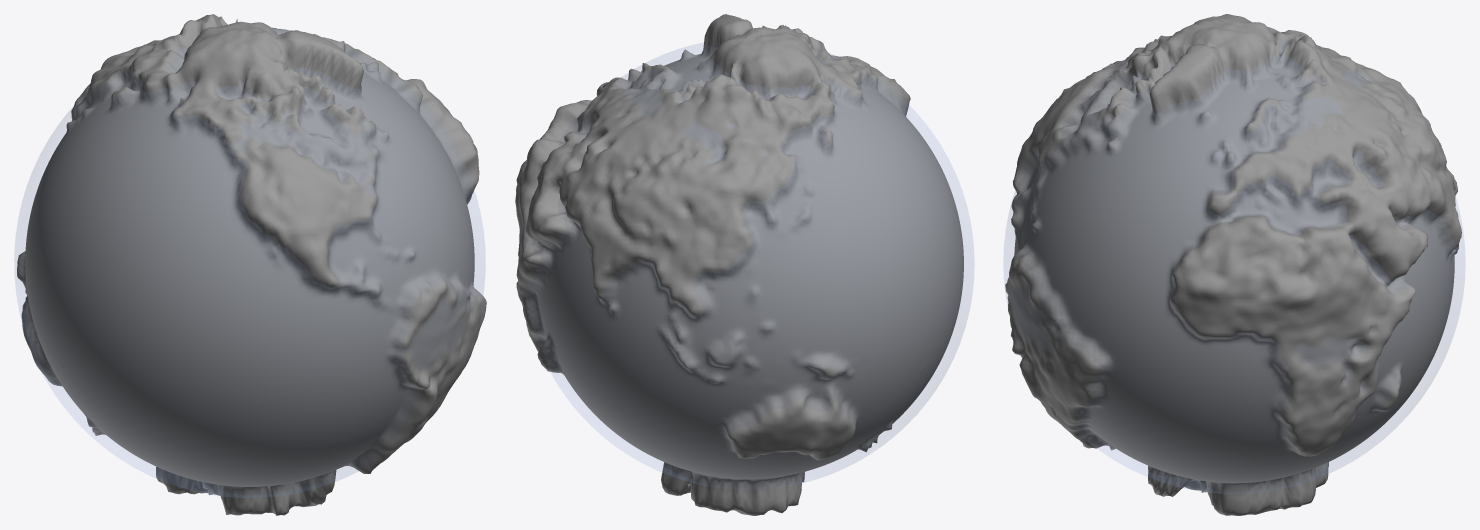
File: Earth.FBX
3 views of the same model, side by side, from view 1: azimuth 30°, elevation 25°; view 2: azimuth 150°, elevation 25°; view 3: azimuth 270°, elevation 25° (orthographic). The views are drawn at different scales.
Visible parts, largest first — view 1: Earth, Water; view 2: Earth, Water; view 3: Earth, Water.
Part boxes in pixels (x1,y1,x2,y2): Earth: [17, 14, 486, 515]; Water: [14, 28, 485, 497]; Earth: [515, 14, 963, 515]; Water: [535, 43, 973, 486]; Earth: [1005, 14, 1461, 515]; Water: [1004, 191, 1464, 493].
Size of the model in its own units: 214 by 233 by 210.
